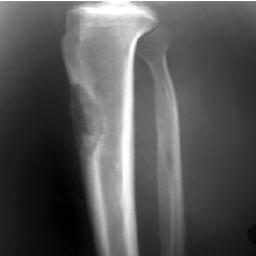cancer: (68, 75, 102, 160)
